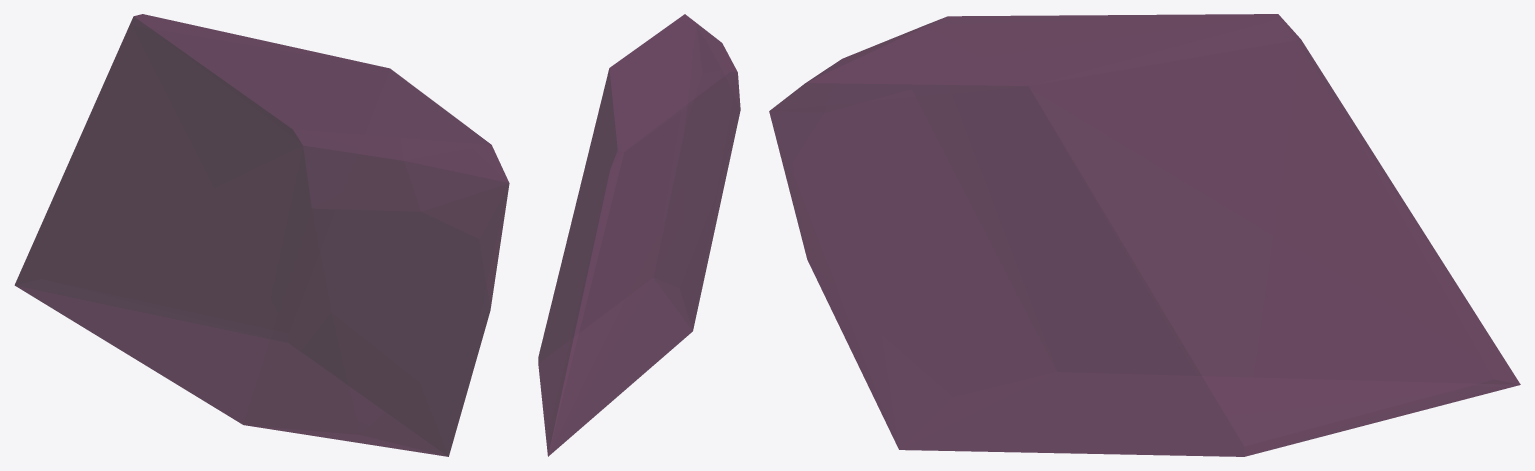
The picture shows the model from 3 angles, left to right: view 1: azimuth 30°, elevation 25°; view 2: azimuth 150°, elevation 25°; view 3: azimuth 270°, elevation 25°; orthographic projection. The views are drawn at different scales.
Parts seen in each view (by area): view 1: Shape_IndexedFaceSet.009_Shape_IndexedFaceSet.5911; view 2: Shape_IndexedFaceSet.009_Shape_IndexedFaceSet.5911; view 3: Shape_IndexedFaceSet.009_Shape_IndexedFaceSet.5911.
Boxes of the visible parts, left/top/right/bottom form: Shape_IndexedFaceSet.009_Shape_IndexedFaceSet.5911: left=14, top=14, right=509, bottom=456; Shape_IndexedFaceSet.009_Shape_IndexedFaceSet.5911: left=538, top=14, right=740, bottom=456; Shape_IndexedFaceSet.009_Shape_IndexedFaceSet.5911: left=769, top=14, right=1520, bottom=456.
Size of the model in its own units: 0.1475 by 0.3459 by 0.6278.
